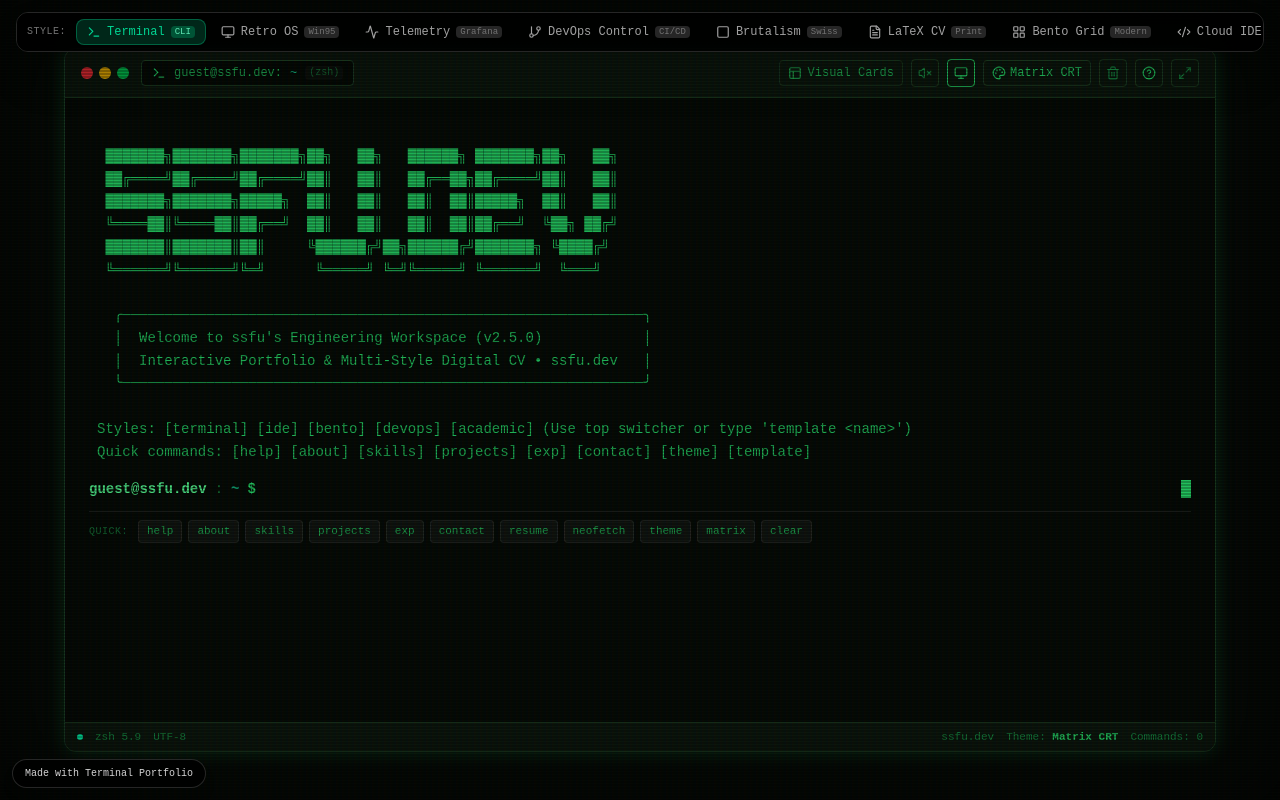
Test: App browser state integration › reports rps usage for an invalid move
Type "rps lizard" into the field with id "terminal-active-input" at (723, 489), box [264,479,1182,499]
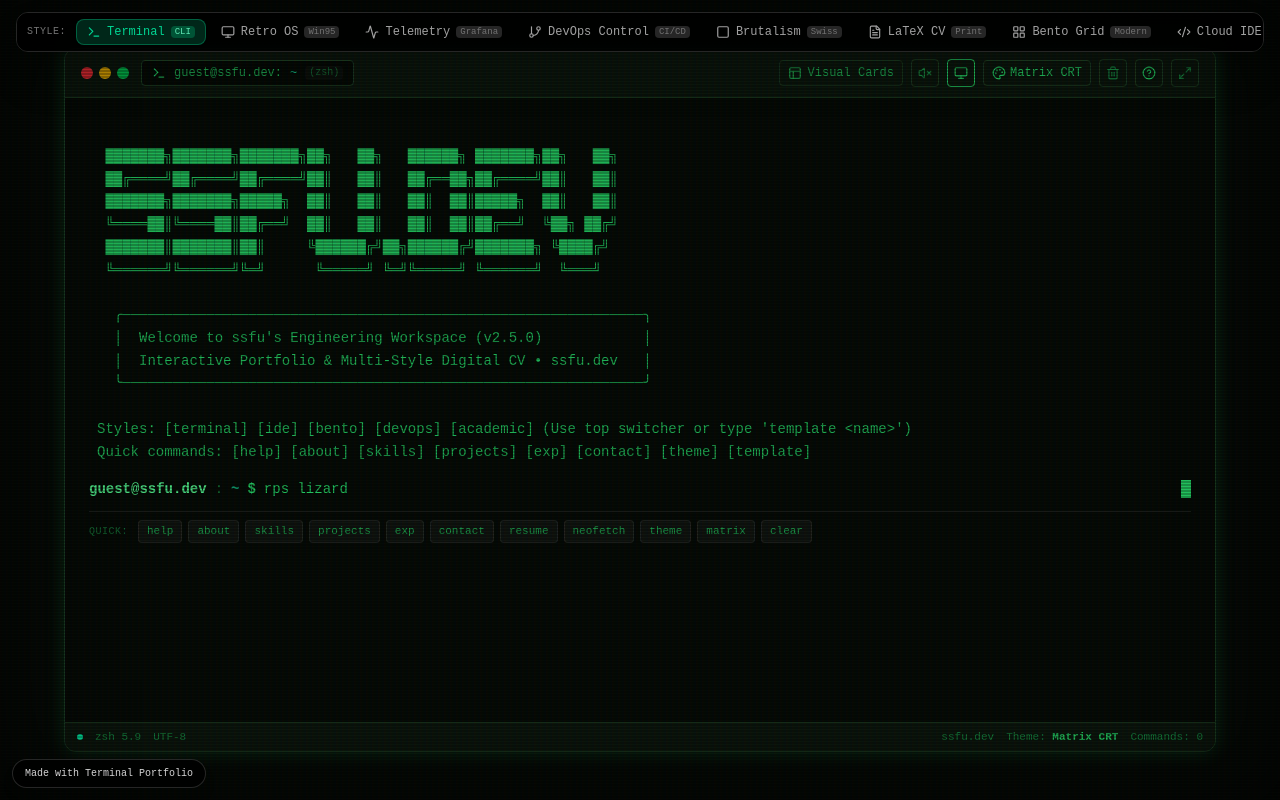
Press Enter in the field with id "terminal-active-input", box [264,479,1182,499]
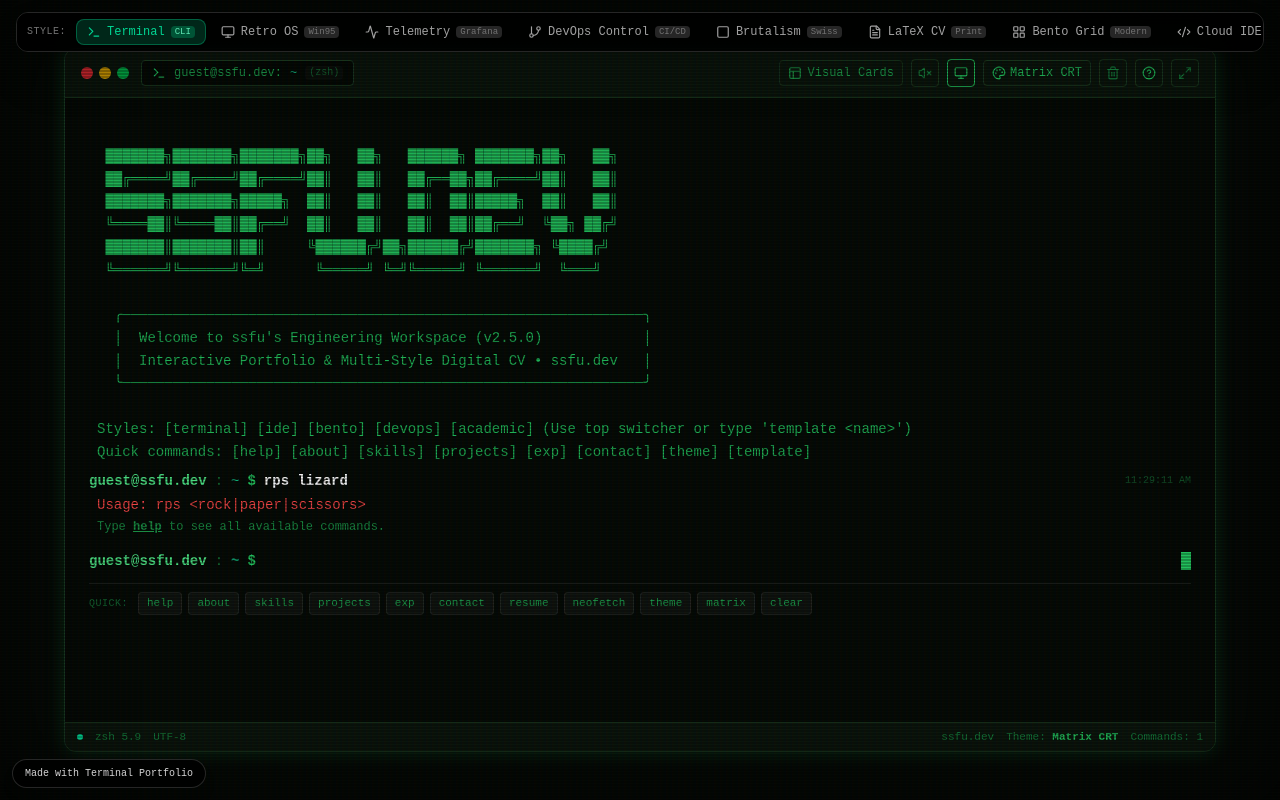
Now the text "Usage: rps <rock|paper|scissors>" is shown, box [97,497,366,513]
